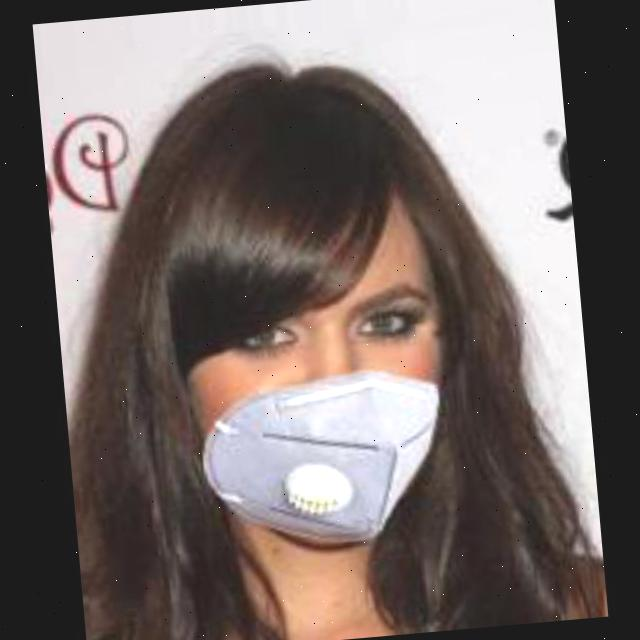suspicion: (145, 125, 460, 556)
